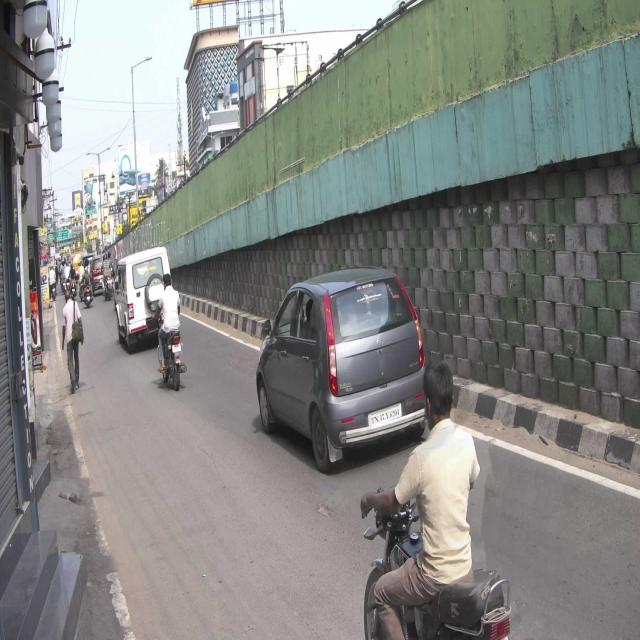single_rider: (358, 358, 511, 640)
